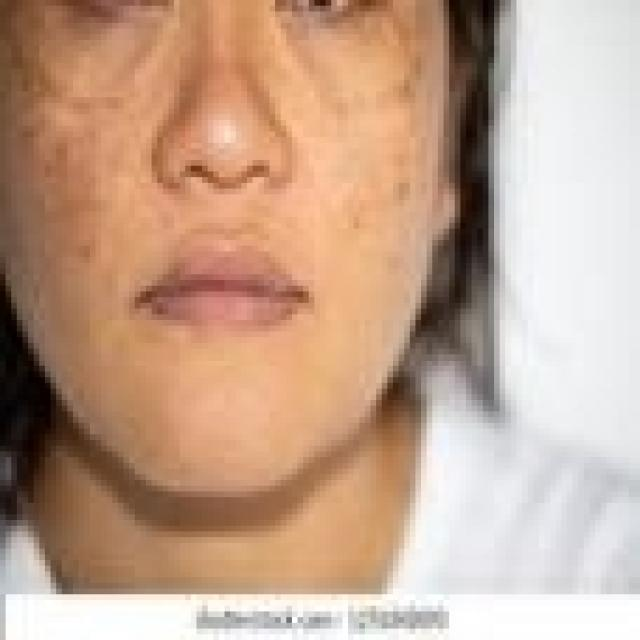Melasma: (0, 0, 124, 257), (349, 30, 439, 276)
